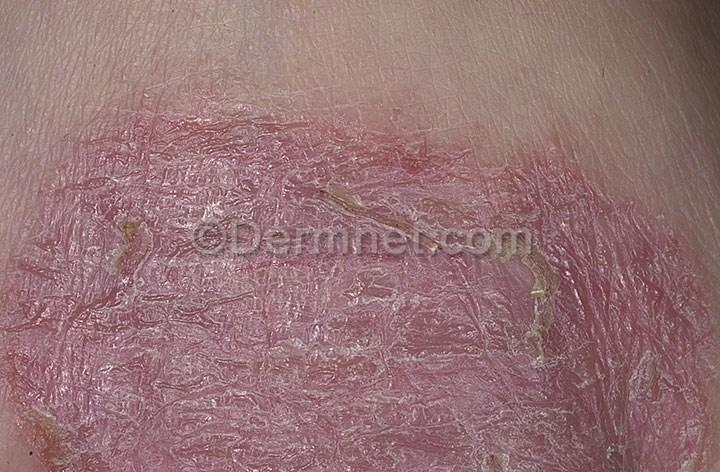Eczema: (23, 159, 624, 472)
